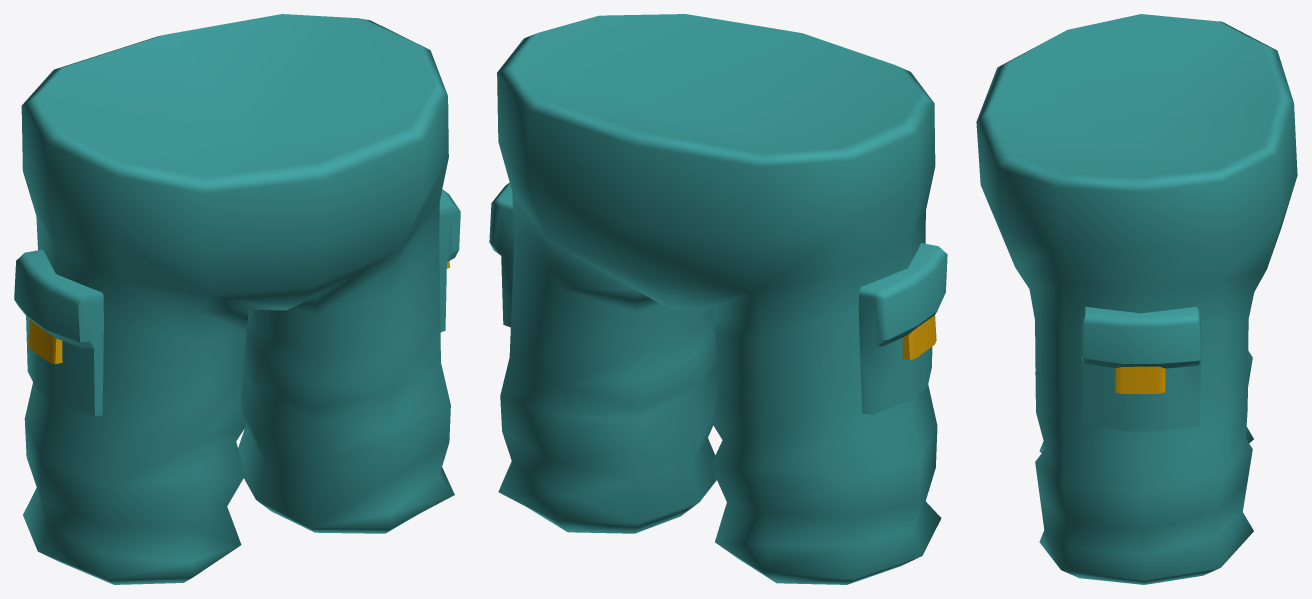
File: Bottom_21.fbx
3 renders of one model, left to right at view 1: azimuth 30°, elevation 25°; view 2: azimuth 150°, elevation 25°; view 3: azimuth 270°, elevation 25°, orthographic. The views are drawn at different scales.
Parts seen in each view (by area): view 1: Bottom_21; view 2: Bottom_21; view 3: Bottom_21.
Boxes of the visible parts, x1,y1,x2,y2 form: Bottom_21: (14, 14, 460, 584); Bottom_21: (489, 14, 947, 584); Bottom_21: (976, 14, 1297, 584).
Size of the model in its own units: 40.66 by 42.09 by 29.68.
